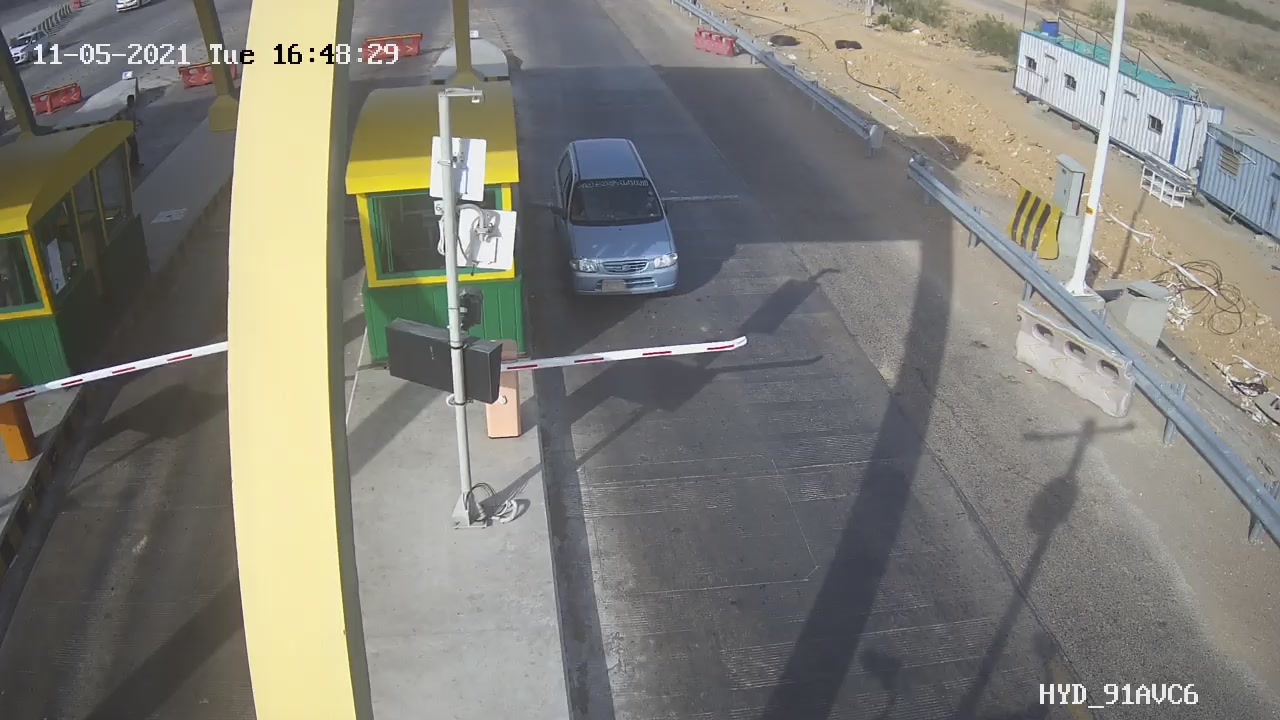F1: (534, 124, 703, 313)
